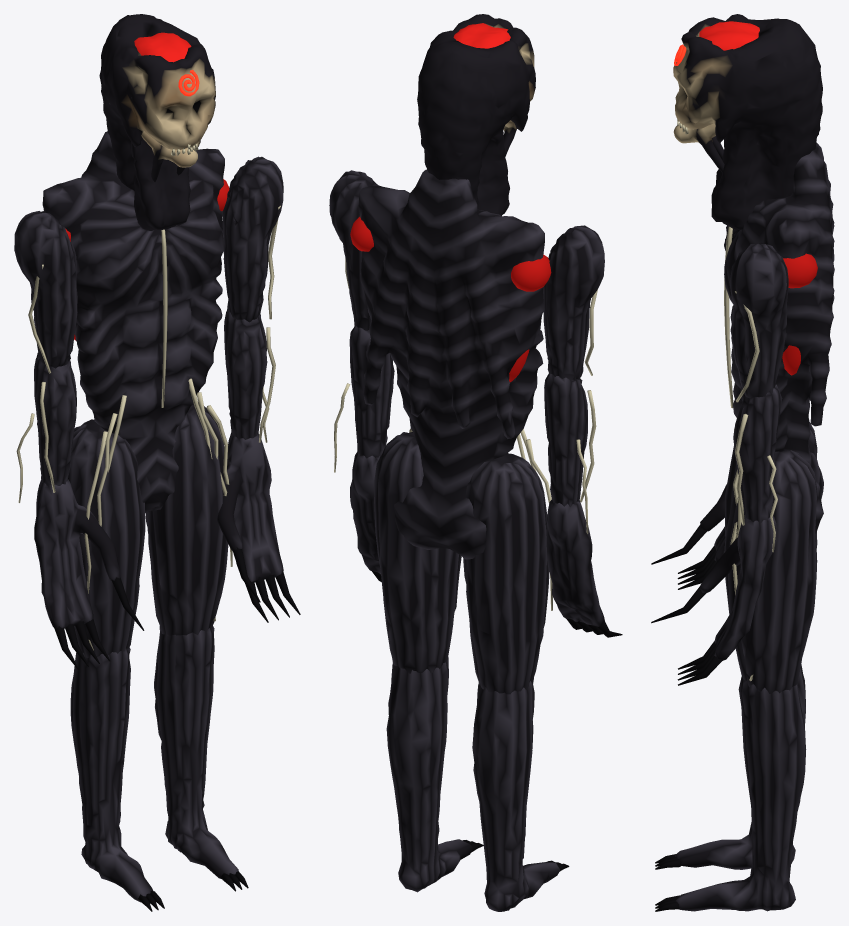
File: carnical.glb
3 views of the same model, side by side, from view 1: azimuth 30°, elevation 25°; view 2: azimuth 150°, elevation 25°; view 3: azimuth 270°, elevation 25° (orthographic). The views are drawn at different scales.
Visible parts, largest first — view 1: P_chest, P_neck, P_hipL, P_kneeL, P_kneeR, P_hipR, P_handR, P_handL, P_shL, P_shR, P_elL, P_elR (+1 smaller); view 2: P_chest, P_neck, P_hipR, P_hipL, P_kneeL, P_kneeR, P_shR, P_handR, P_elR, P_elL, P_shL, P_handL; view 3: P_neck, P_chest, P_kneeL, P_hipL, P_shL, P_handL, P_elL, P_kneeR, P_handR, P_jaw, P_hipR.
Part boxes in pixels (x1,y1,x2,y2): P_chest: (42,131,232,593); P_neck: (99,14,215,230); P_hipL: (145,402,228,635); P_kneeL: (154,626,248,891); P_kneeR: (70,647,164,911); P_hipR: (68,419,145,657); P_handR: (34,479,144,668); P_handL: (217,432,300,622); P_shL: (222,156,283,322); P_shR: (14,211,77,373); P_elL: (224,308,275,442); P_elR: (16,352,76,502); P_chest: (350,169,552,610); P_neck: (417,14,535,215); P_hipR: (463,453,549,694); P_hipL: (374,432,461,673); P_kneeL: (386,657,483,892); P_kneeR: (472,678,569,911); P_shR: (543,225,604,380); P_handR: (545,499,622,637); P_elR: (544,373,596,533); P_elL: (334,326,394,472); P_shL: (329,170,377,330); P_handL: (350,451,381,581); P_neck: (673,14,822,229); P_chest: (724,142,834,594); P_kneeL: (655,675,806,911); P_hipL: (724,450,817,693); P_shL: (730,242,788,402); P_handL: (651,516,777,685); P_elL: (733,384,782,552); P_kneeR: (655,664,805,869); P_handR: (651,484,726,589); P_jaw: (673,121,724,172); P_hipR: (725,422,817,547).
Size of the model in its own units: 0.6891 by 2.11 by 0.4056.
